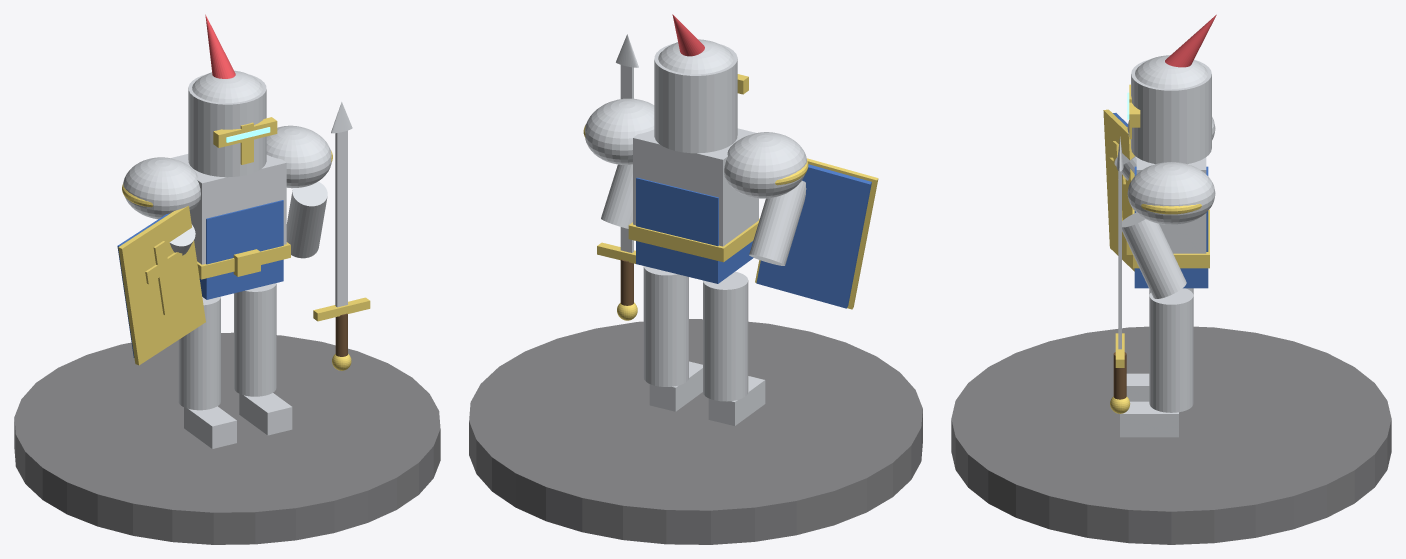
The model's file is character_knight.glb.
3 renders of one model, left to right at view 1: azimuth 30°, elevation 25°; view 2: azimuth 150°, elevation 25°; view 3: azimuth 270°, elevation 25°, orthographic. The views are drawn at different scales.
Parts seen in each view (by area): view 1: Cylinder, Cube.012, Cube.001, Cylinder.001, Cylinder.005, Cube, Cylinder.004, Sphere.001, Sphere.002, Cylinder.003, Cube.009, Cube.008 (+10 smaller); view 2: Cylinder, Cube.011, Cylinder.001, Cube.001, Cube, Cylinder.004, Cylinder.005, Sphere.001, Sphere.002, Cylinder.002, Cube.002, Sphere (+7 smaller); view 3: Cylinder, Cylinder.001, Cylinder.005, Sphere.002, Cylinder.003, Cube.012, Cube.008, Sphere, Cube, Cube.001, Cone, Cube.009 (+3 smaller).
Part boxes in pixels (x1,y1,x2,y2): Cylinder: (14,332,440,544); Cube.012: (118,205,205,365); Cube.001: (199,200,283,299); Cylinder.001: (188,74,266,177); Cylinder.005: (234,283,276,396); Cube: (170,154,286,264); Cylinder.004: (178,296,220,410); Sphere.001: (123,157,200,219); Sphere.002: (266,125,331,188); Cylinder.003: (286,181,327,258); Cube.009: (335,130,347,307); Cube.008: (239,393,292,435); Cylinder: (469,319,922,544); Cube.011: (756,164,871,308); Cylinder.001: (654,43,737,153); Cube.001: (636,177,753,283); Cube: (633,128,758,246); Cylinder.004: (703,271,748,401); Cylinder.005: (643,266,688,386); Sphere.001: (724,132,806,198); Sphere.002: (585,98,654,164); Cylinder.002: (749,180,806,265); Cube.002: (628,218,759,262); Sphere: (658,39,733,74); Cylinder: (951,326,1391,544); Cylinder.001: (1131,59,1211,164); Cylinder.005: (1149,288,1193,412); Sphere.002: (1127,162,1215,224); Cylinder.003: (1122,212,1186,298); Cube.012: (1103,109,1134,271); Cube.008: (1120,401,1178,437); Sphere: (1135,55,1207,89); Cube: (1136,157,1206,253); Cube.001: (1134,166,1208,288); Cone: (1165,14,1216,67); Cube.009: (1118,171,1121,349).
Bounding box in the file's own units: 2.4 × 2.63 × 2.4.
